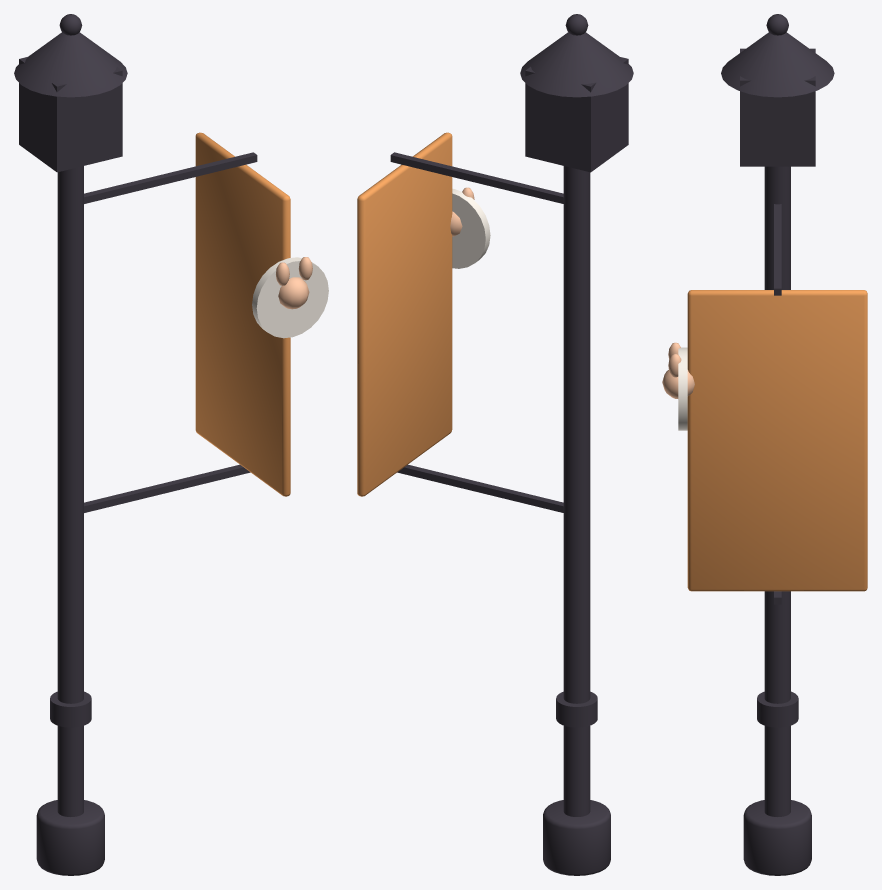
The model's file is lamp_post.glb.
3 views of the same model, side by side, from view 1: azimuth 30°, elevation 25°; view 2: azimuth 150°, elevation 25°; view 3: azimuth 270°, elevation 25° (orthographic).
Visible parts, largest first — view 1: lamp_post; view 2: lamp_post; view 3: lamp_post.
Boxes of the visible parts, left/top/right/bottom form: lamp_post: left=14, top=14, right=328, bottom=875; lamp_post: left=357, top=14, right=633, bottom=875; lamp_post: left=662, top=14, right=867, bottom=875.
Bounding box in the file's own units: 1.57 × 4.94 × 1.09.
